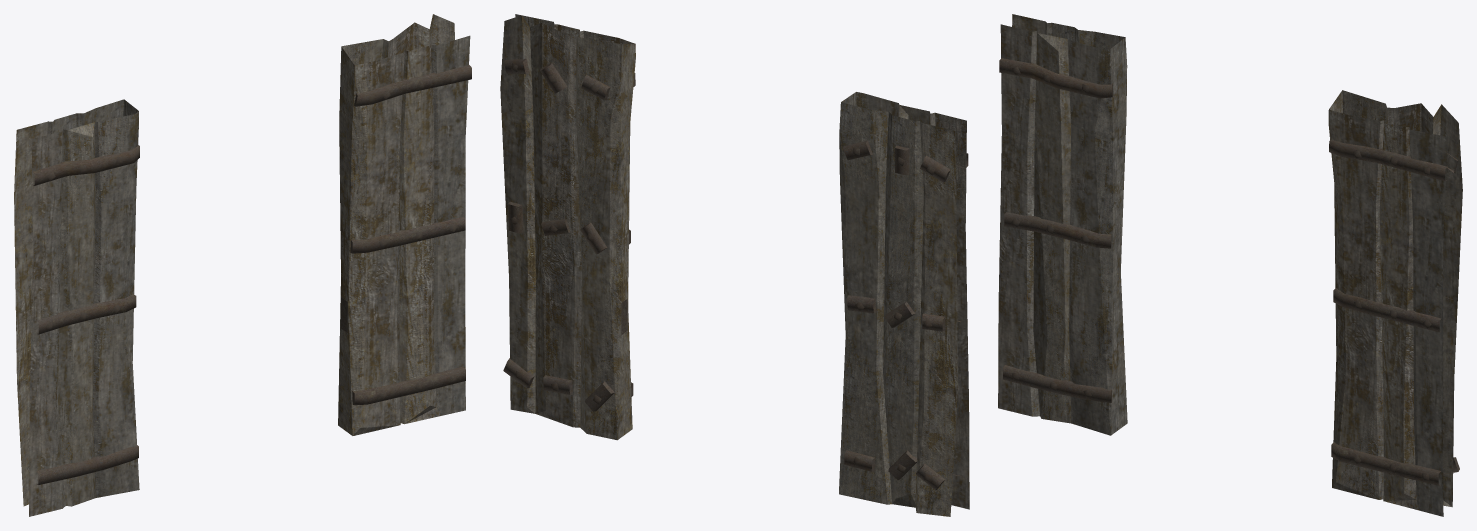
The model's file is door_single_surround.fbx.
The picture shows the model from 3 angles, left to right: view 1: azimuth 30°, elevation 25°; view 2: azimuth 150°, elevation 25°; view 3: azimuth 330°, elevation 25°; orthographic projection. The views are drawn at different scales.
Parts seen in each view (by area): view 1: door_single_surround; view 2: door_single_surround; view 3: door_single_surround.
Boxes of the visible parts, x1,y1,x2,y2 form: door_single_surround: (14, 14, 471, 516); door_single_surround: (500, 14, 969, 516); door_single_surround: (998, 14, 1462, 516).
Size of the model in its own units: 124 by 104 by 12.4.
